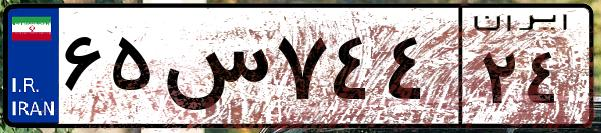2: (475, 38, 525, 113)
4: (385, 28, 445, 110), (330, 28, 385, 110), (525, 38, 570, 115)
5: (110, 28, 158, 98)
6: (57, 26, 110, 100)
7: (270, 28, 330, 110)
س: (158, 20, 270, 120)
